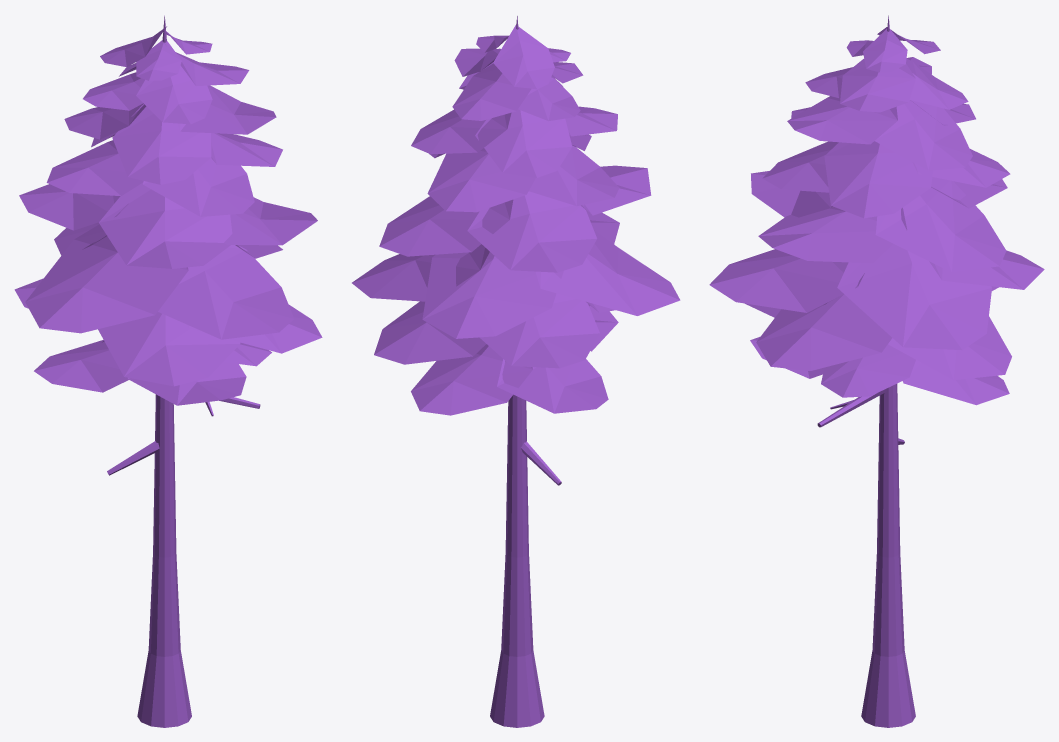
The model's file is SM_FOL_Pine_Tree_02_A.obj.
3 views of the same model, side by side, from view 1: azimuth 30°, elevation 25°; view 2: azimuth 150°, elevation 25°; view 3: azimuth 270°, elevation 25° (orthographic).
Parts seen in each view (by area): view 1: SM_FOL_Pine_Tree_02_A; view 2: SM_FOL_Pine_Tree_02_A; view 3: SM_FOL_Pine_Tree_02_A.
Boxes of the visible parts, x1,y1,x2,y2 form: SM_FOL_Pine_Tree_02_A: [14, 15, 322, 727]; SM_FOL_Pine_Tree_02_A: [352, 16, 680, 727]; SM_FOL_Pine_Tree_02_A: [709, 15, 1044, 727].
Bounding box in the file's own units: 358 × 881 × 382.
